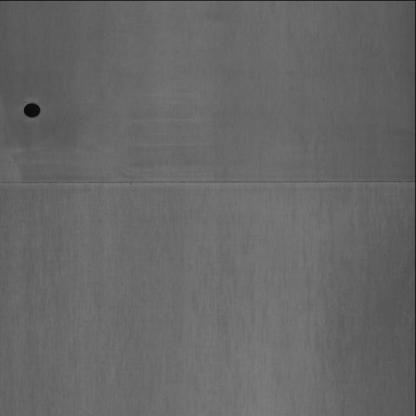punching_hole: (20, 96, 44, 124)
welding_line: (0, 167, 415, 195)
